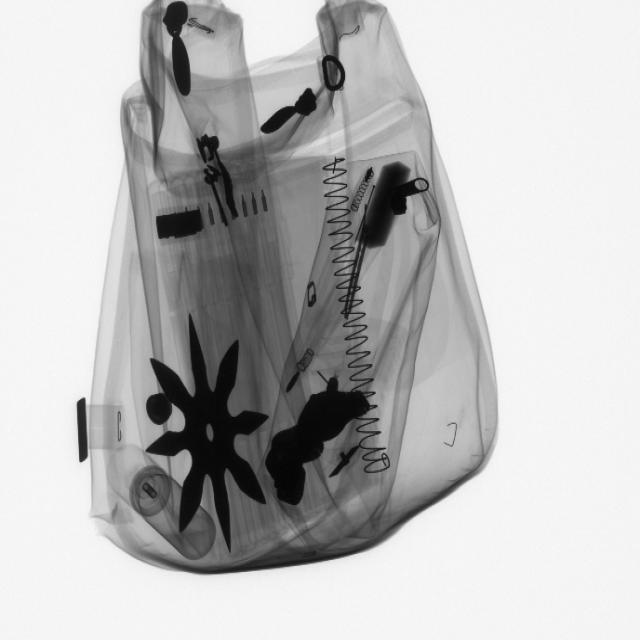BLADE: (346, 227, 372, 323)
SHURIKEN: (147, 312, 271, 554)
